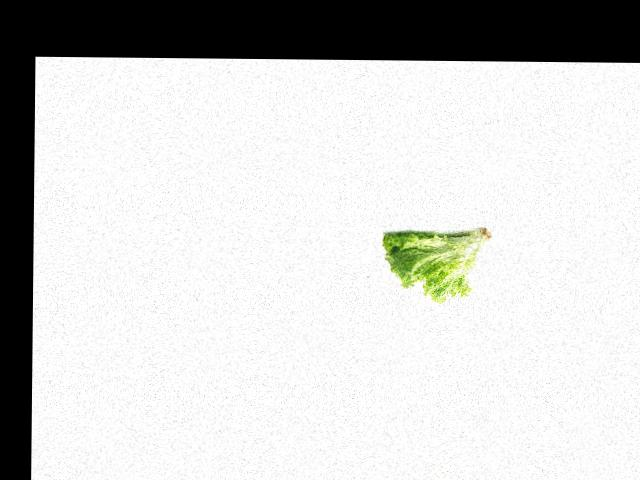lettuce: (382, 225, 494, 304)
